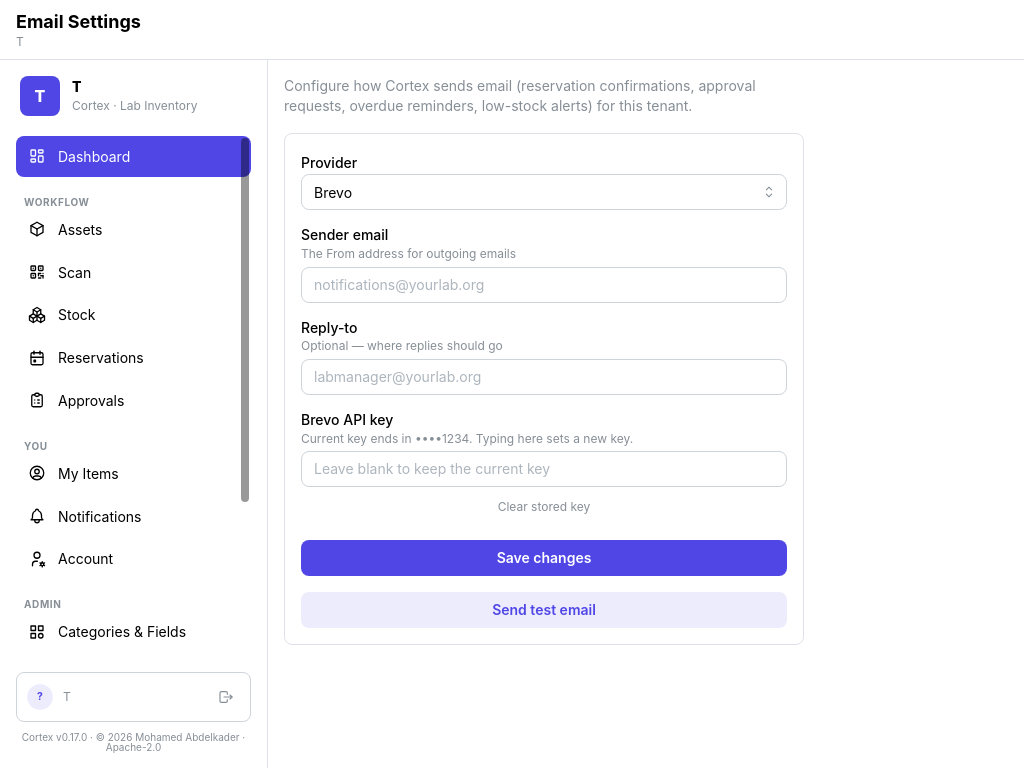
Test: EmailSettingsScreen › shows an error alert distinct from the save form error when the test send fails
Click the button with test id "email-settings-test-button".
click(544, 610)  # box [301, 592, 787, 628]
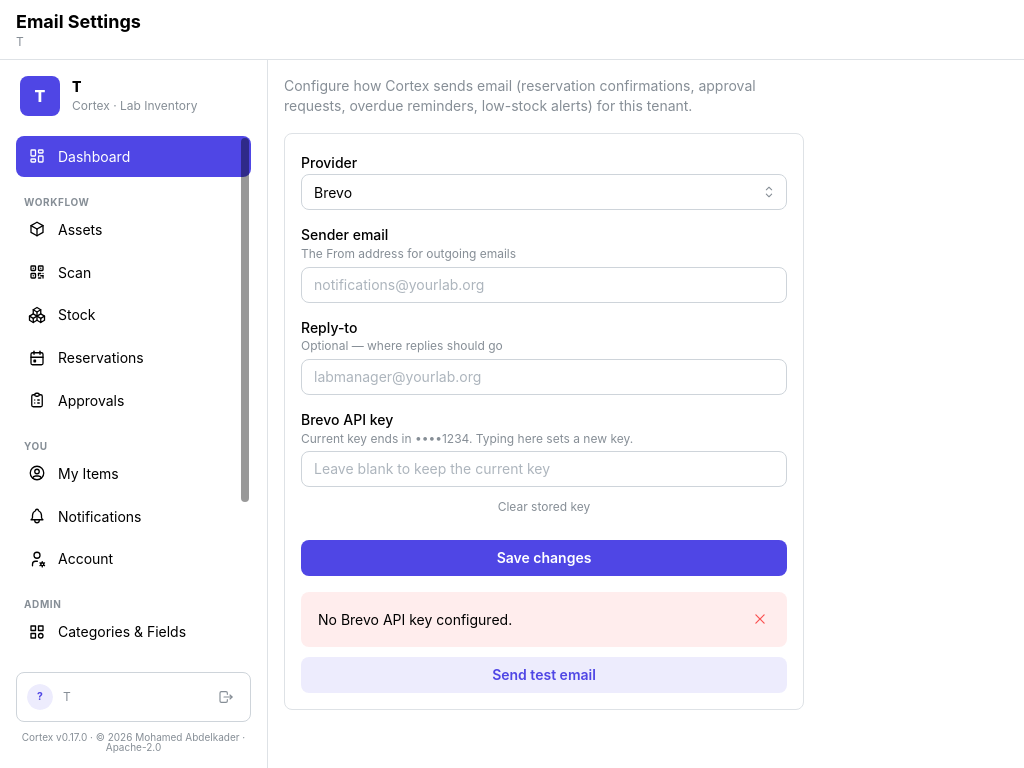
Check: the message with test id "email-settings-test-error" reads "No Brevo API key configured.", box [318, 611, 512, 628]
